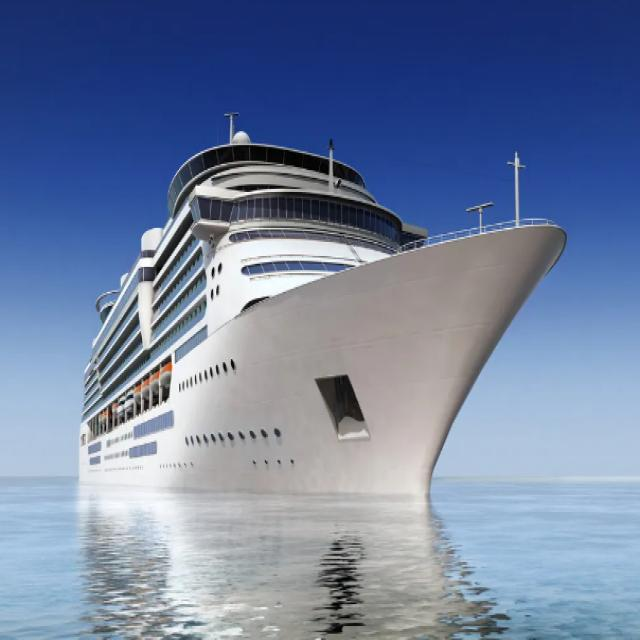passenger ship: (78, 120, 563, 524)
